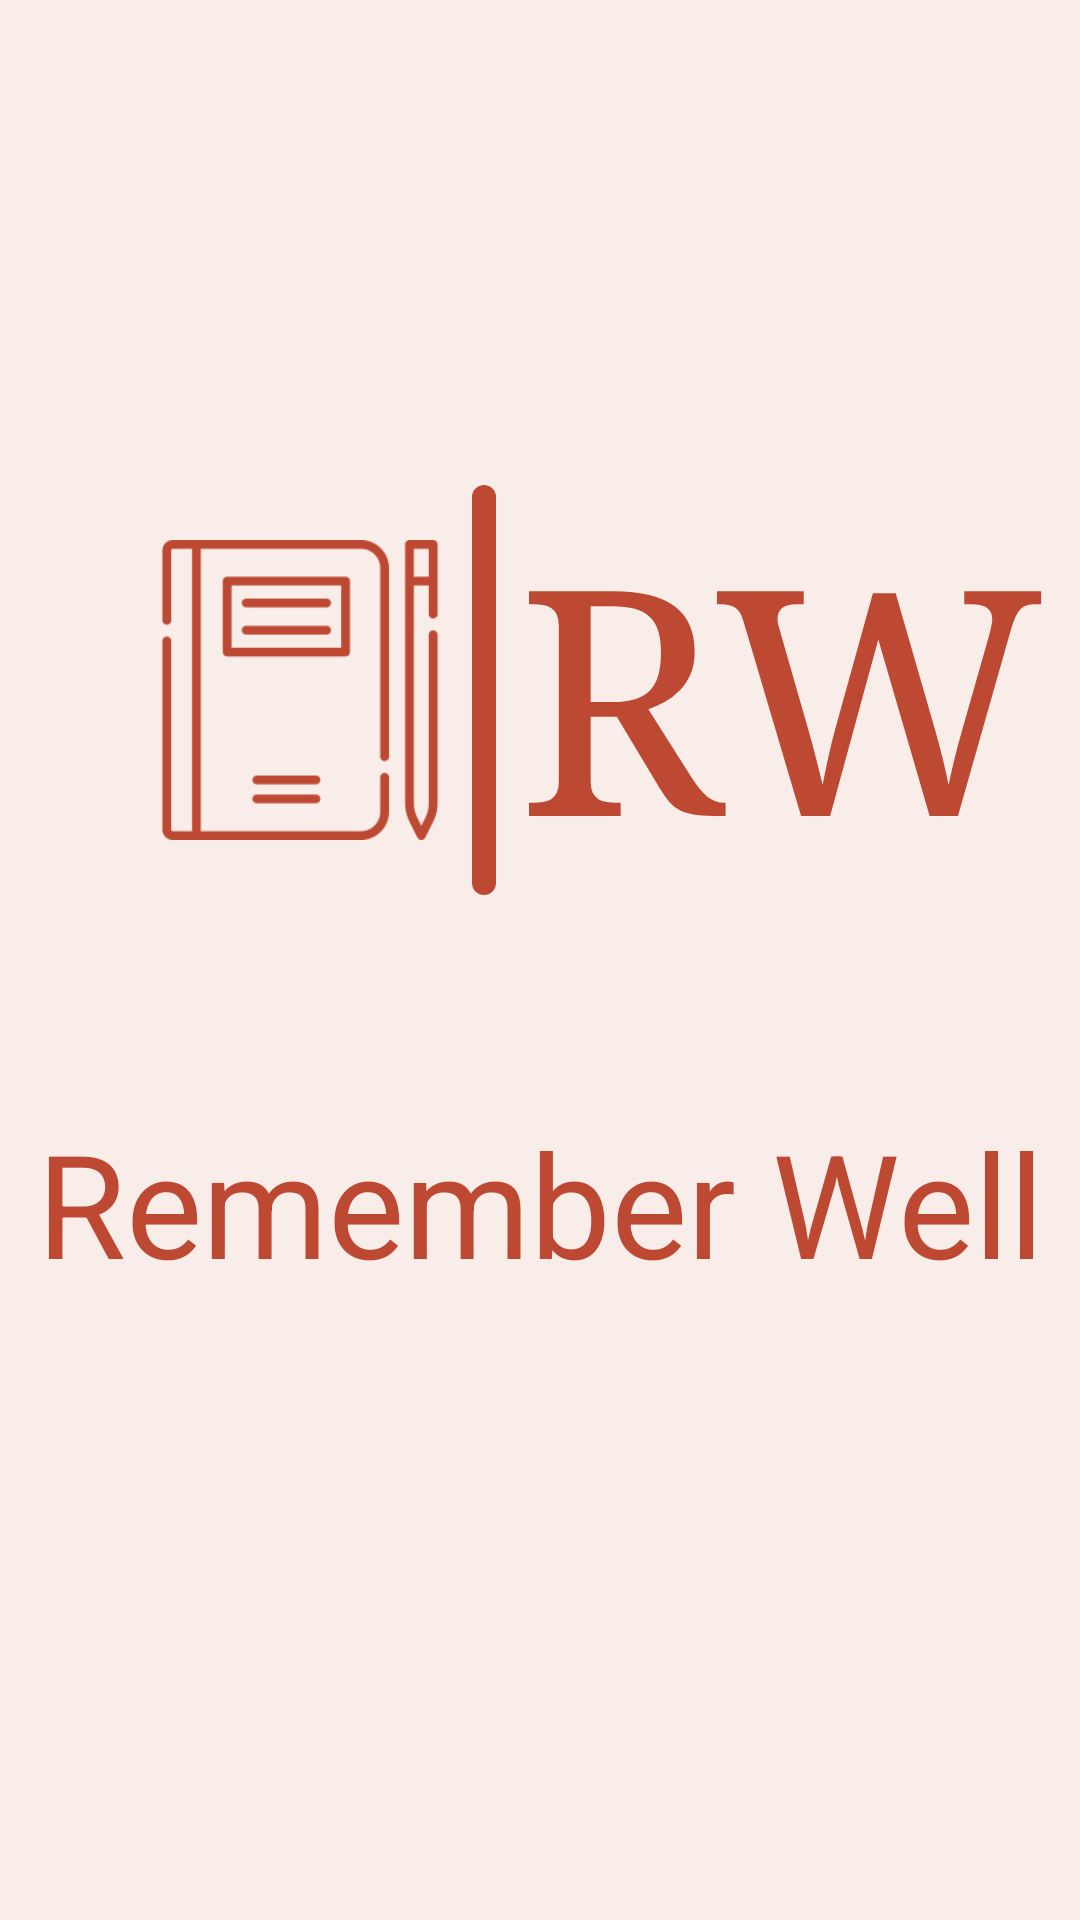

Icon click points for this 1080 × 1920 phone screenshot, format point (x, y):
diario: point (300, 690)
